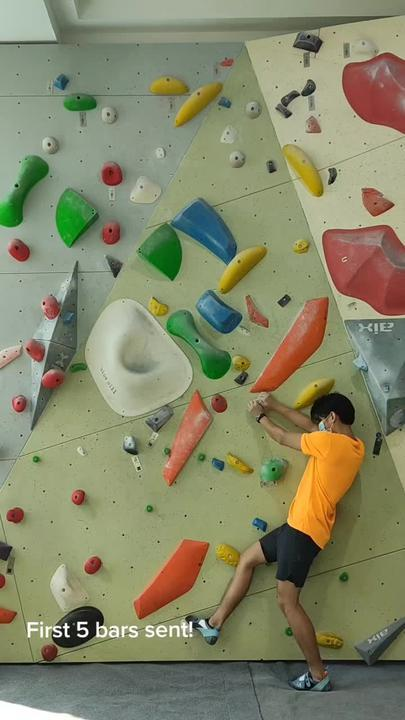black-hold: (59, 288, 204, 436), (248, 288, 344, 411), (127, 528, 221, 633), (145, 388, 223, 487), (322, 225, 405, 316), (159, 304, 238, 385), (169, 193, 249, 272), (342, 52, 405, 135), (0, 150, 53, 234), (38, 185, 102, 250), (135, 220, 199, 284), (44, 598, 111, 655), (210, 236, 270, 297), (166, 74, 226, 131), (280, 138, 329, 202), (39, 562, 91, 617), (191, 287, 245, 339), (286, 371, 339, 413), (352, 181, 395, 223), (126, 175, 165, 213), (237, 294, 272, 334), (143, 400, 177, 434), (3, 235, 34, 266), (222, 451, 256, 479), (20, 335, 51, 365), (292, 28, 324, 57), (212, 540, 244, 568), (0, 339, 27, 369), (38, 292, 65, 322), (143, 295, 172, 322), (149, 76, 188, 96), (96, 253, 124, 279), (260, 457, 288, 481), (80, 552, 105, 578), (315, 631, 345, 651), (63, 94, 97, 111), (207, 392, 231, 416), (218, 124, 240, 148), (41, 368, 65, 390), (101, 162, 123, 186), (297, 77, 319, 100), (350, 39, 377, 57), (50, 71, 71, 94), (279, 87, 301, 108), (102, 222, 121, 245), (121, 434, 139, 457), (352, 354, 372, 374), (250, 515, 271, 534), (274, 101, 293, 120), (233, 368, 251, 387), (42, 136, 59, 155), (209, 456, 228, 473), (390, 408, 405, 429), (232, 354, 250, 371), (305, 115, 321, 134), (245, 101, 262, 118), (101, 107, 118, 124), (41, 644, 58, 661), (229, 150, 245, 168), (70, 488, 86, 506), (0, 541, 13, 562), (0, 608, 17, 624), (6, 508, 24, 523), (276, 293, 292, 309), (12, 395, 27, 412), (292, 239, 309, 254), (68, 361, 88, 373), (217, 95, 233, 110), (264, 158, 278, 175), (327, 167, 338, 186), (75, 445, 88, 458), (282, 625, 295, 638), (196, 451, 208, 464), (155, 148, 166, 159), (220, 59, 234, 67), (339, 572, 349, 582), (0, 574, 6, 589), (163, 447, 172, 456), (32, 456, 41, 463), (146, 505, 153, 512)
